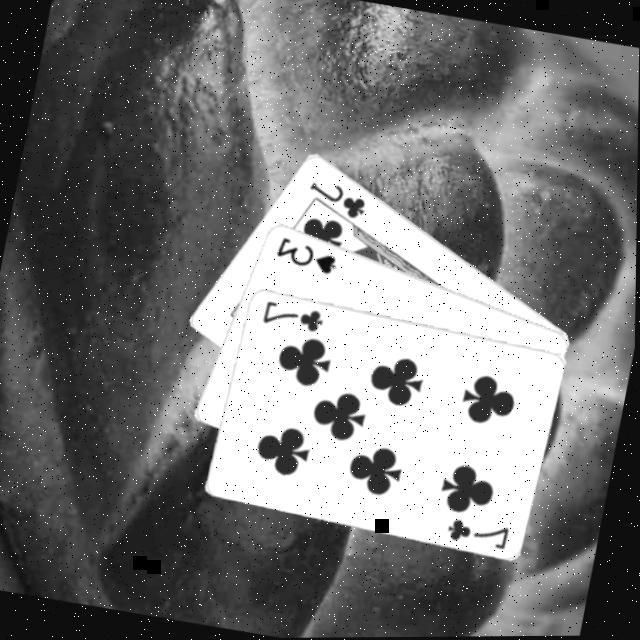3S: (272, 232, 345, 279)
7C: (445, 514, 516, 554), (260, 297, 330, 337)
JC: (302, 176, 375, 225)
